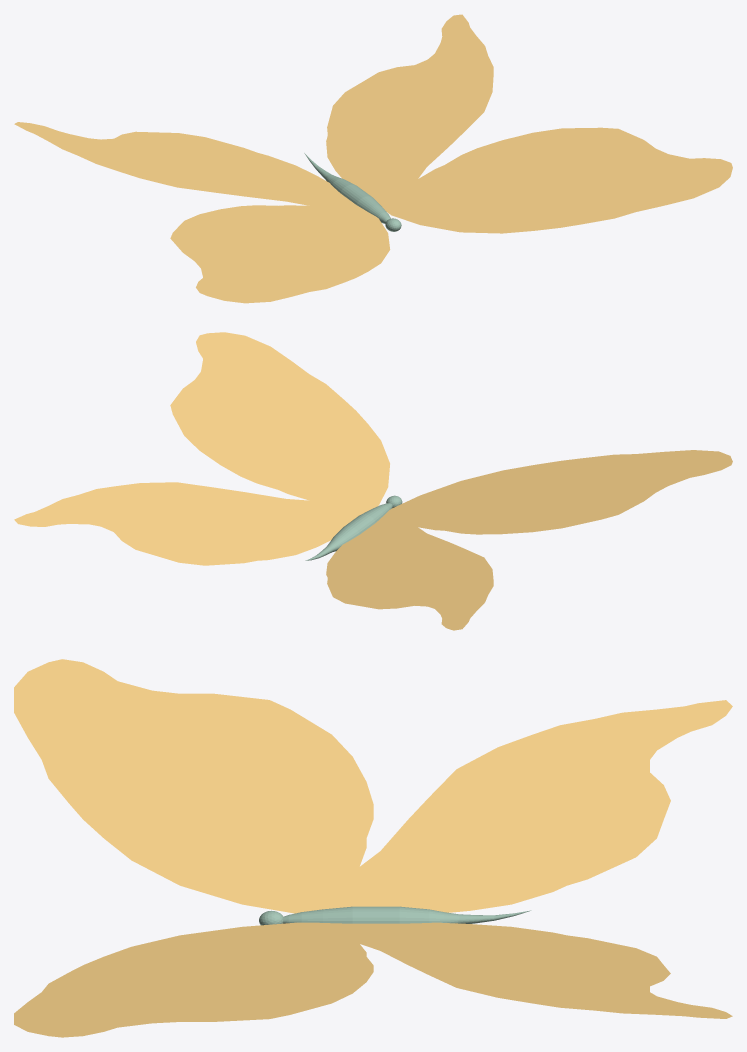
Rendered from BUTERFLY.glb.
The picture shows the model from 3 angles, top to bottom: view 1: azimuth 30°, elevation 25°; view 2: azimuth 150°, elevation 25°; view 3: azimuth 270°, elevation 25°; orthographic projection. The views are drawn at different scales.
Visible parts, largest first — view 1: _0; view 2: _0; view 3: _0.
Part boxes in pixels (x1,y1,x2,y2): _0: [14, 14, 732, 303]; _0: [14, 332, 732, 630]; _0: [14, 659, 732, 1037].
Size of the model in its own units: 7.99 by 0.8294 by 6.41.
